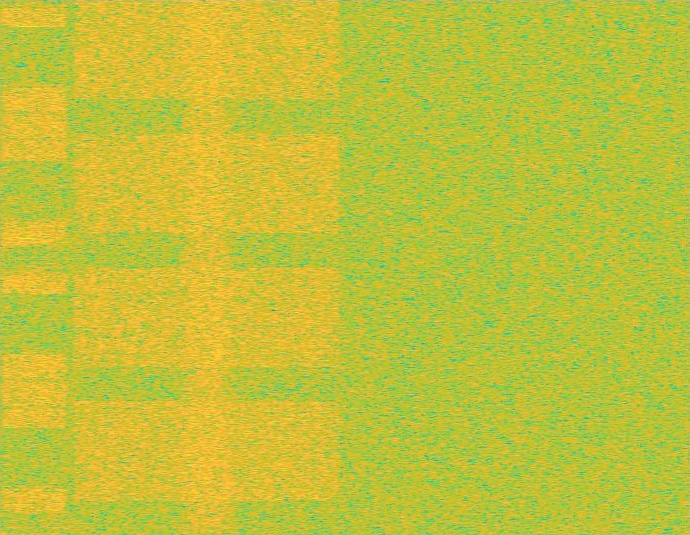5G: (69, 0, 345, 534)
DSSS: (176, 0, 238, 534)
LTE: (0, 0, 69, 534)
Radar: (21, 0, 35, 534)
